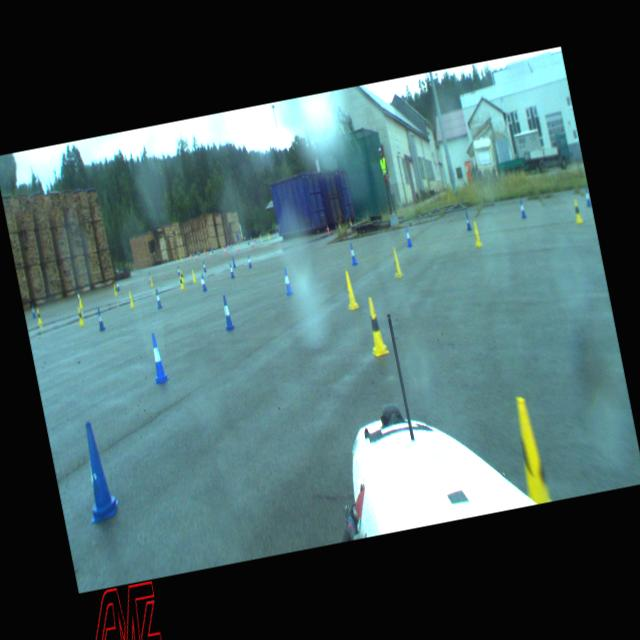blue_cone: (74, 420, 122, 521), (146, 332, 170, 383), (220, 295, 235, 331), (282, 268, 294, 296), (348, 242, 358, 266), (96, 308, 106, 330), (404, 226, 413, 248), (583, 188, 592, 208), (154, 288, 162, 308), (464, 213, 472, 230), (228, 262, 236, 278), (519, 200, 526, 218), (200, 274, 207, 291), (31, 304, 36, 318), (247, 256, 252, 268), (116, 278, 120, 292), (202, 261, 207, 272), (232, 257, 236, 268), (177, 266, 180, 276)
orange_cone: (338, 222, 342, 230), (350, 220, 353, 230), (327, 224, 330, 233)
yellow_cone: (509, 394, 552, 506), (362, 296, 390, 356), (341, 270, 359, 310), (389, 248, 404, 278), (572, 199, 583, 223), (472, 222, 482, 246), (77, 308, 84, 326), (128, 292, 134, 308), (36, 308, 42, 324), (77, 293, 83, 309), (178, 275, 184, 289), (113, 283, 118, 296), (192, 270, 196, 282), (180, 270, 184, 282), (150, 276, 154, 286)
